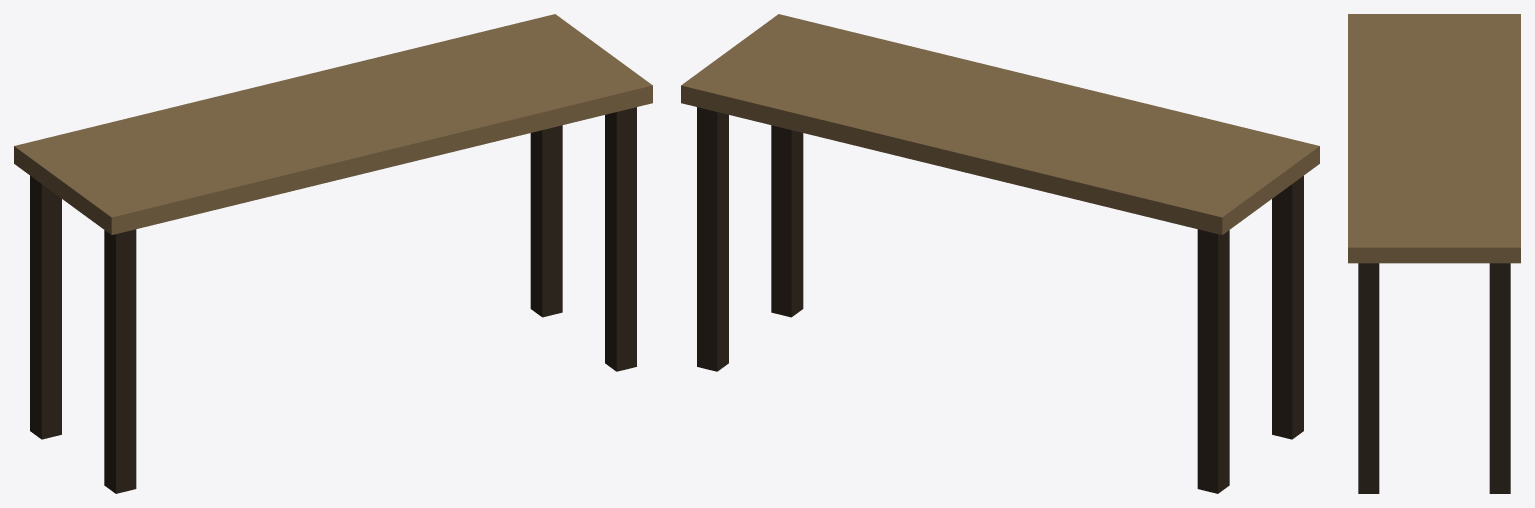
File: prop_sawhorse.glb
The picture shows the model from 3 angles, left to right: view 1: azimuth 30°, elevation 25°; view 2: azimuth 150°, elevation 25°; view 3: azimuth 270°, elevation 25°; orthographic projection. The views are drawn at different scales.
Parts seen in each view (by area): view 1: body; view 2: body; view 3: body.
Part boxes in pixels (x1,y1,x2,y2): body: [14, 14, 652, 493]; body: [681, 14, 1319, 493]; body: [1348, 14, 1520, 493].
Bounding box in the file's own units: 1.6 × 0.8 × 0.5.
